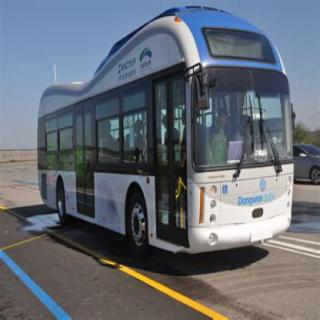Normal_vehicle: (34, 1, 308, 265)
